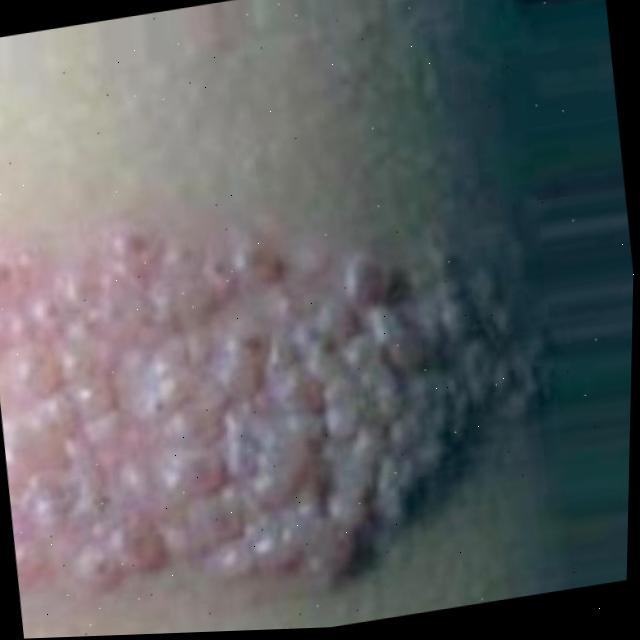Shingles: (0, 165, 569, 633)
